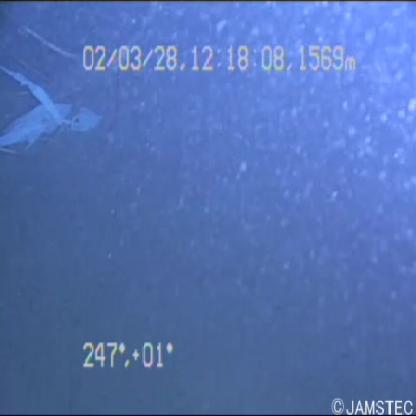Rác: (1, 42, 107, 172)
